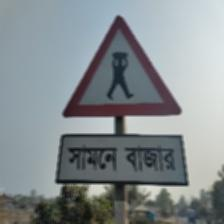Market-in-front: (56, 16, 189, 188)
